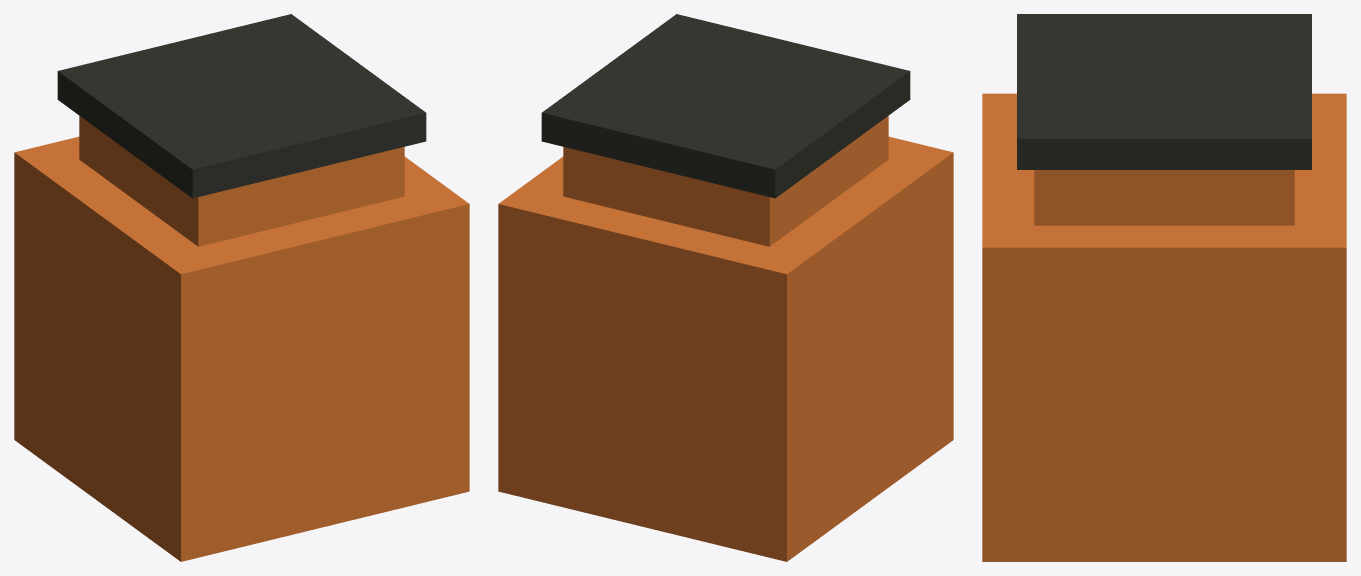
Rendered from clay_jar.glb.
The picture shows the model from 3 angles, left to right: view 1: azimuth 30°, elevation 25°; view 2: azimuth 150°, elevation 25°; view 3: azimuth 270°, elevation 25°; orthographic projection. The views are drawn at different scales.
Visible parts, largest first — view 1: orange__orange, dark__dark; view 2: orange__orange, dark__dark; view 3: orange__orange, dark__dark.
Part boxes in pixels (x1,y1,x2,y2): orange__orange: (14, 116, 469, 561); dark__dark: (57, 14, 426, 198); orange__orange: (498, 116, 953, 561); dark__dark: (541, 14, 910, 198); orange__orange: (982, 93, 1346, 561); dark__dark: (1017, 14, 1311, 169).
Size of the model in its own units: 0.42 by 0.52 by 0.42.
